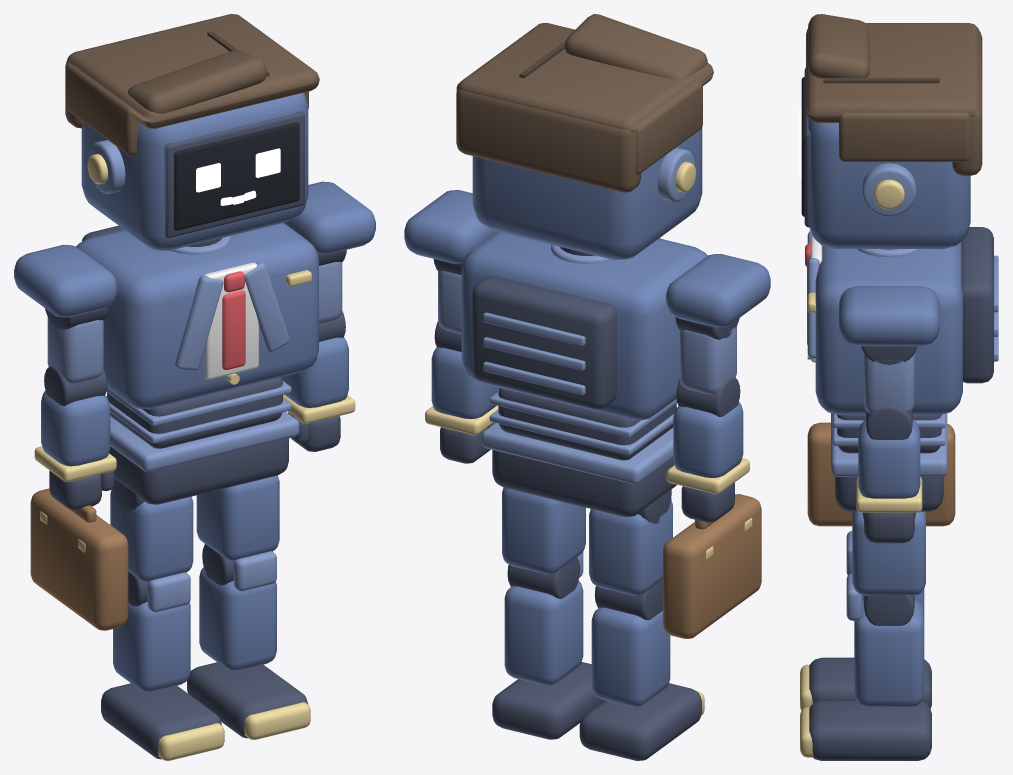
File: hiringManager.glb
The picture shows the model from 3 angles, left to right: view 1: azimuth 30°, elevation 25°; view 2: azimuth 150°, elevation 25°; view 3: azimuth 270°, elevation 25°; orthographic projection.
Visible parts, largest first — view 1: head_mesh, spine_mesh, elbow_R_mesh, knee_L_mesh, knee_R_mesh, hips_mesh, shoulder_R_mesh, hip_R_mesh, shoulder_L_mesh, elbow_L_mesh, hip_L_mesh; view 2: head_mesh, spine_mesh, elbow_R_mesh, knee_R_mesh, knee_L_mesh, hips_mesh, shoulder_R_mesh, hip_R_mesh, shoulder_L_mesh, elbow_L_mesh, hip_L_mesh; view 3: head_mesh, spine_mesh, knee_L_mesh, shoulder_L_mesh, elbow_L_mesh, hip_L_mesh, elbow_R_mesh, knee_R_mesh, hips_mesh, neck_mesh.
Boxes of the visible parts, x1=… form: head_mesh: x1=65, y1=14, x2=319, y2=250; spine_mesh: x1=76, y1=223, x2=318, y2=448; elbow_R_mesh: x1=30, y1=366, x2=128, y2=630; knee_L_mesh: x1=187, y1=544, x2=310, y2=739; knee_R_mesh: x1=101, y1=572, x2=224, y2=760; hips_mesh: x1=109, y1=411, x2=299, y2=504; shoulder_R_mesh: x1=14, y1=244, x2=117, y2=383; hip_R_mesh: x1=110, y1=478, x2=193, y2=581; shoulder_L_mesh: x1=284, y1=181, x2=375, y2=323; elbow_L_mesh: x1=281, y1=311, x2=355, y2=451; hip_L_mesh: x1=196, y1=475, x2=279, y2=560; head_mesh: x1=456, y1=14, x2=713, y2=259; spine_mesh: x1=461, y1=231, x2=707, y2=460; elbow_R_mesh: x1=663, y1=376, x2=761, y2=638; knee_R_mesh: x1=579, y1=579, x2=704, y2=760; knee_L_mesh: x1=492, y1=552, x2=604, y2=739; hips_mesh: x1=481, y1=423, x2=676, y2=516; shoulder_R_mesh: x1=666, y1=254, x2=770, y2=394; hip_R_mesh: x1=589, y1=489, x2=672, y2=595; shoulder_L_mesh: x1=404, y1=190, x2=497, y2=333; elbow_L_mesh: x1=425, y1=321, x2=499, y2=463; hip_L_mesh: x1=502, y1=487, x2=585, y2=574; head_mesh: x1=799, y1=14, x2=982, y2=248; spine_mesh: x1=805, y1=227, x2=998, y2=453; knee_L_mesh: x1=800, y1=573, x2=931, y2=760; shoulder_L_mesh: x1=839, y1=286, x2=939, y2=413; elbow_L_mesh: x1=856, y1=406, x2=922, y2=543; hip_L_mesh: x1=852, y1=511, x2=925, y2=595; elbow_R_mesh: x1=807, y1=422, x2=955, y2=526; knee_R_mesh: x1=800, y1=531, x2=931, y2=710; hips_mesh: x1=831, y1=413, x2=947, y2=511; neck_mesh: x1=857, y1=249, x2=920, y2=257.
Size of the model in its own units: 0.98 by 1.95 by 0.514.
